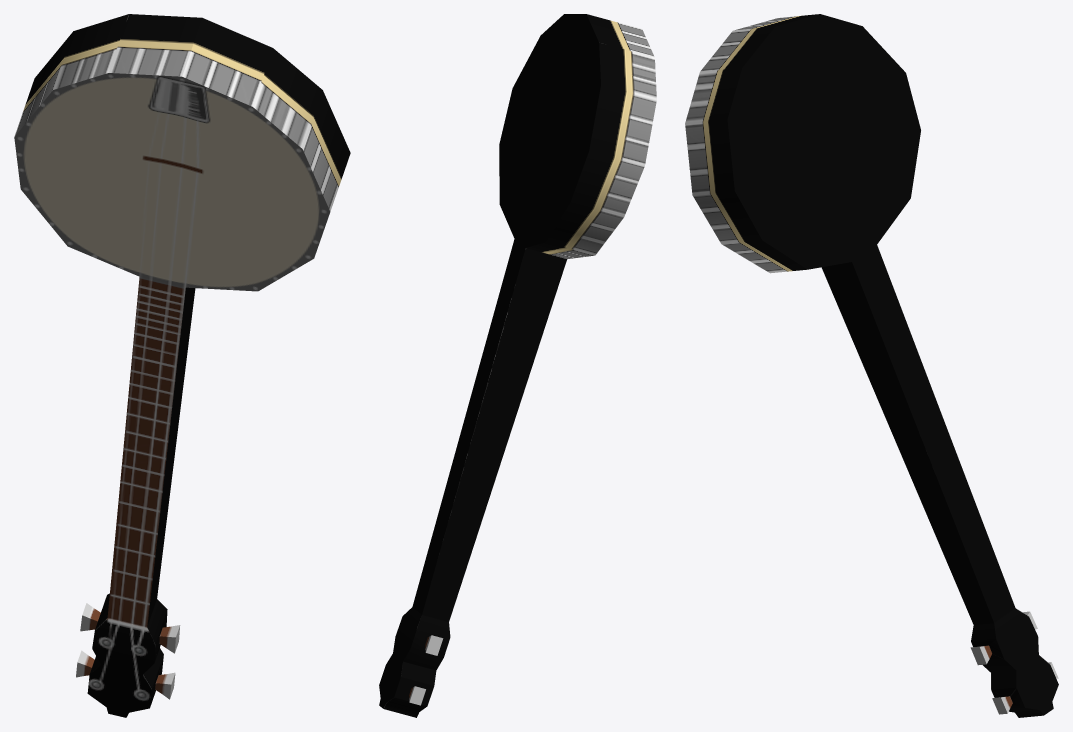
File: Guitarra1_000024.obj
3 renders of one model, left to right at view 1: azimuth 30°, elevation 25°; view 2: azimuth 150°, elevation 25°; view 3: azimuth 270°, elevation 25°, orthographic. The views are drawn at different scales.
Visible parts, largest first — view 1: g1_pCube6; view 2: g1_pCube6; view 3: g1_pCube6.
Boxes of the visible parts, x1,y1,x2,y2 form: g1_pCube6: (14,14,350,717); g1_pCube6: (379,14,656,717); g1_pCube6: (685,14,1058,717).
Size of the model in its own units: 4.09 by 12.69 by 6.5.
